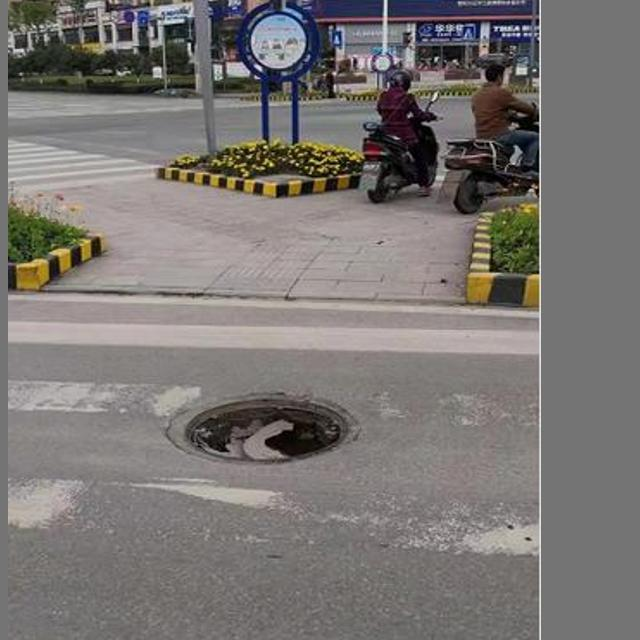broke: (147, 367, 373, 486)
